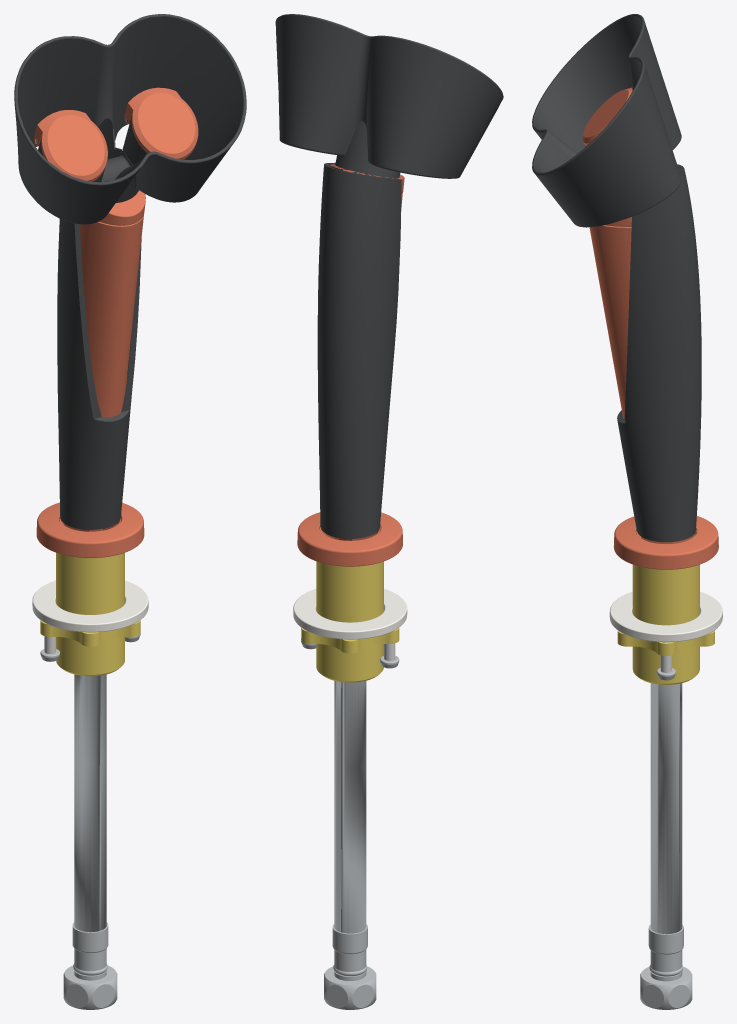
Rendered from HANDHELD_2_EYESHOWER_BENCH.glb.
3 views of the same model, side by side, from view 1: azimuth 30°, elevation 25°; view 2: azimuth 150°, elevation 25°; view 3: azimuth 270°, elevation 25° (orthographic). The views are drawn at different scales.
Parts seen in each view (by area): view 1: Body16, Body2, Body5, Body19, Body29, Body14, Body15, Body26, Body30, Body23, Body21, Body31 (+2 smaller); view 2: Body16, Body2, Body19, Body29, Body26, Body30, Body23, Body21, Body31; view 3: Body2, Body16, Body19, Body29, Body5, Body26, Body30, Body23, Body21, Body31, Body15.
Part boxes in pixels (x1,y1,x2,y2): Body16: (14,14,246,224); Body2: (57,151,141,529); Body5: (79,215,143,417); Body19: (74,674,106,932); Body29: (56,522,124,676); Body14: (124,87,198,159); Body15: (33,110,107,181); Body26: (36,502,144,557); Body30: (32,580,148,632); Body23: (63,965,117,1009); Body21: (72,922,108,975); Body31: (40,620,140,646); Body16: (275,14,503,178); Body2: (317,163,401,538); Body19: (334,681,366,933); Body29: (316,531,383,682); Body26: (297,512,402,566); Body30: (293,589,407,639); Body23: (324,966,376,1009); Body21: (332,924,367,976); Body31: (301,627,399,653); Body2: (617,164,701,542); Body16: (532,14,681,227); Body19: (650,683,682,934); Body29: (632,533,699,684); Body5: (589,225,631,418); Body26: (613,516,718,569); Body30: (609,592,722,642); Body23: (640,966,692,1009); Body21: (648,924,683,976); Body31: (617,630,714,656); Body15: (582,87,632,146).
Size of the model in its own units: 0.1095 by 0.4661 by 0.0844.
